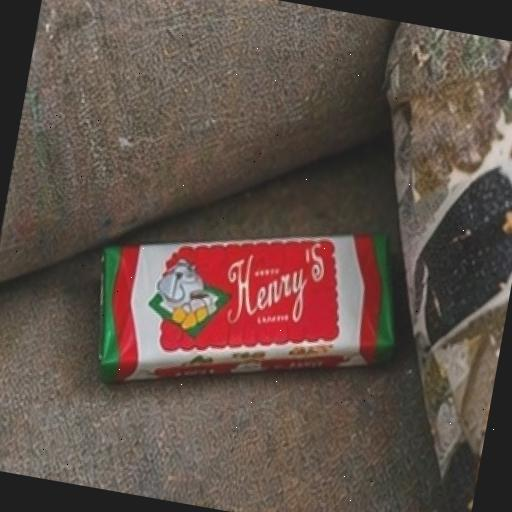golden: (48, 72, 488, 464)
